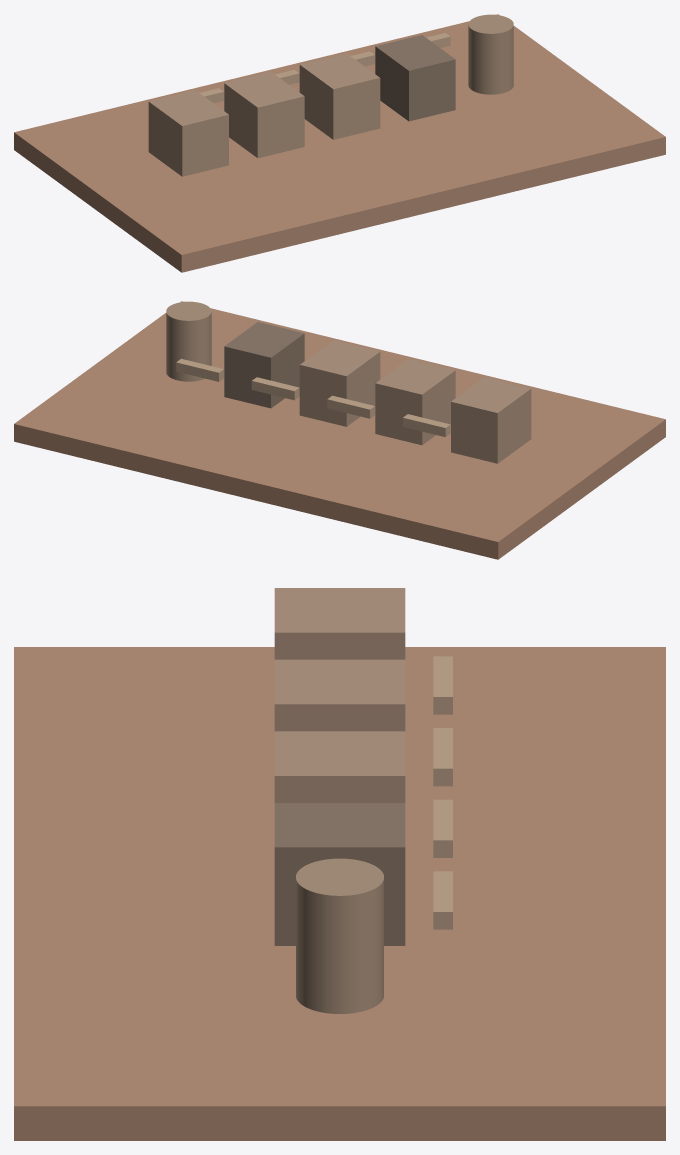
Rendered from invfixturefluidics_hydraulic0e8d4aa7fcfb8.glb.
3 renders of one model, top to bottom at view 1: azimuth 30°, elevation 25°; view 2: azimuth 150°, elevation 25°; view 3: azimuth 270°, elevation 25°, orthographic. The views are drawn at different scales.
Visible parts, largest first — view 1: substrate_fluidics_hydraulic, 01_flow_path_lumen_architecture, 03_sensing_feedback_element_if_closed_loop, 02_pressure_regulation_element, 04_termination_interfaces_application_context_specific_sourc, 05_termination_interfaces_patient_reservoir; view 2: substrate_fluidics_hydraulic, 01_flow_path_lumen_architecture, 03_sensing_feedback_element_if_closed_loop, 04_termination_interfaces_application_context_specific_sourc, 02_pressure_regulation_element, 05_termination_interfaces_patient_reservoir, flow_3_4, flow_2_3, flow_4_5, flow_1_2; view 3: substrate_fluidics_hydraulic, 05_termination_interfaces_patient_reservoir, 04_termination_interfaces_application_context_specific_sourc, 02_pressure_regulation_element, 01_flow_path_lumen_architecture, 03_sensing_feedback_element_if_closed_loop, flow_1_2, flow_2_3, flow_3_4, flow_4_5.
Boxes of the visible parts, x1,y1,x2,y2 form: substrate_fluidics_hydraulic: [14, 14, 665, 272]; 01_flow_path_lumen_architecture: [148, 90, 228, 176]; 03_sensing_feedback_element_if_closed_loop: [299, 53, 380, 139]; 02_pressure_regulation_element: [224, 72, 304, 158]; 04_termination_interfaces_application_context_specific_sourc: [375, 35, 455, 121]; 05_termination_interfaces_patient_reservoir: [468, 14, 513, 94]; substrate_fluidics_hydraulic: [14, 301, 665, 559]; 01_flow_path_lumen_architecture: [451, 377, 531, 463]; 03_sensing_feedback_element_if_closed_loop: [299, 340, 380, 426]; 04_termination_interfaces_application_context_specific_sourc: [224, 322, 304, 408]; 02_pressure_regulation_element: [375, 359, 455, 445]; 05_termination_interfaces_patient_reservoir: [166, 301, 211, 381]; flow_3_4: [251, 377, 299, 400]; flow_2_3: [327, 395, 374, 418]; flow_4_5: [176, 358, 223, 381]; flow_1_2: [403, 414, 450, 436]; substrate_fluidics_hydraulic: [14, 647, 665, 1140]; 05_termination_interfaces_patient_reservoir: [296, 858, 383, 1013]; 04_termination_interfaces_application_context_specific_sourc: [274, 803, 405, 945]; 02_pressure_regulation_element: [274, 659, 405, 731]; 01_flow_path_lumen_architecture: [274, 588, 405, 659]; 03_sensing_feedback_element_if_closed_loop: [274, 731, 405, 802]; flow_1_2: [433, 656, 452, 714]; flow_2_3: [433, 728, 452, 786]; flow_3_4: [433, 799, 452, 857]; flow_4_5: [433, 871, 452, 929].
Size of the model in its own units: 10 by 1.8 by 6.
